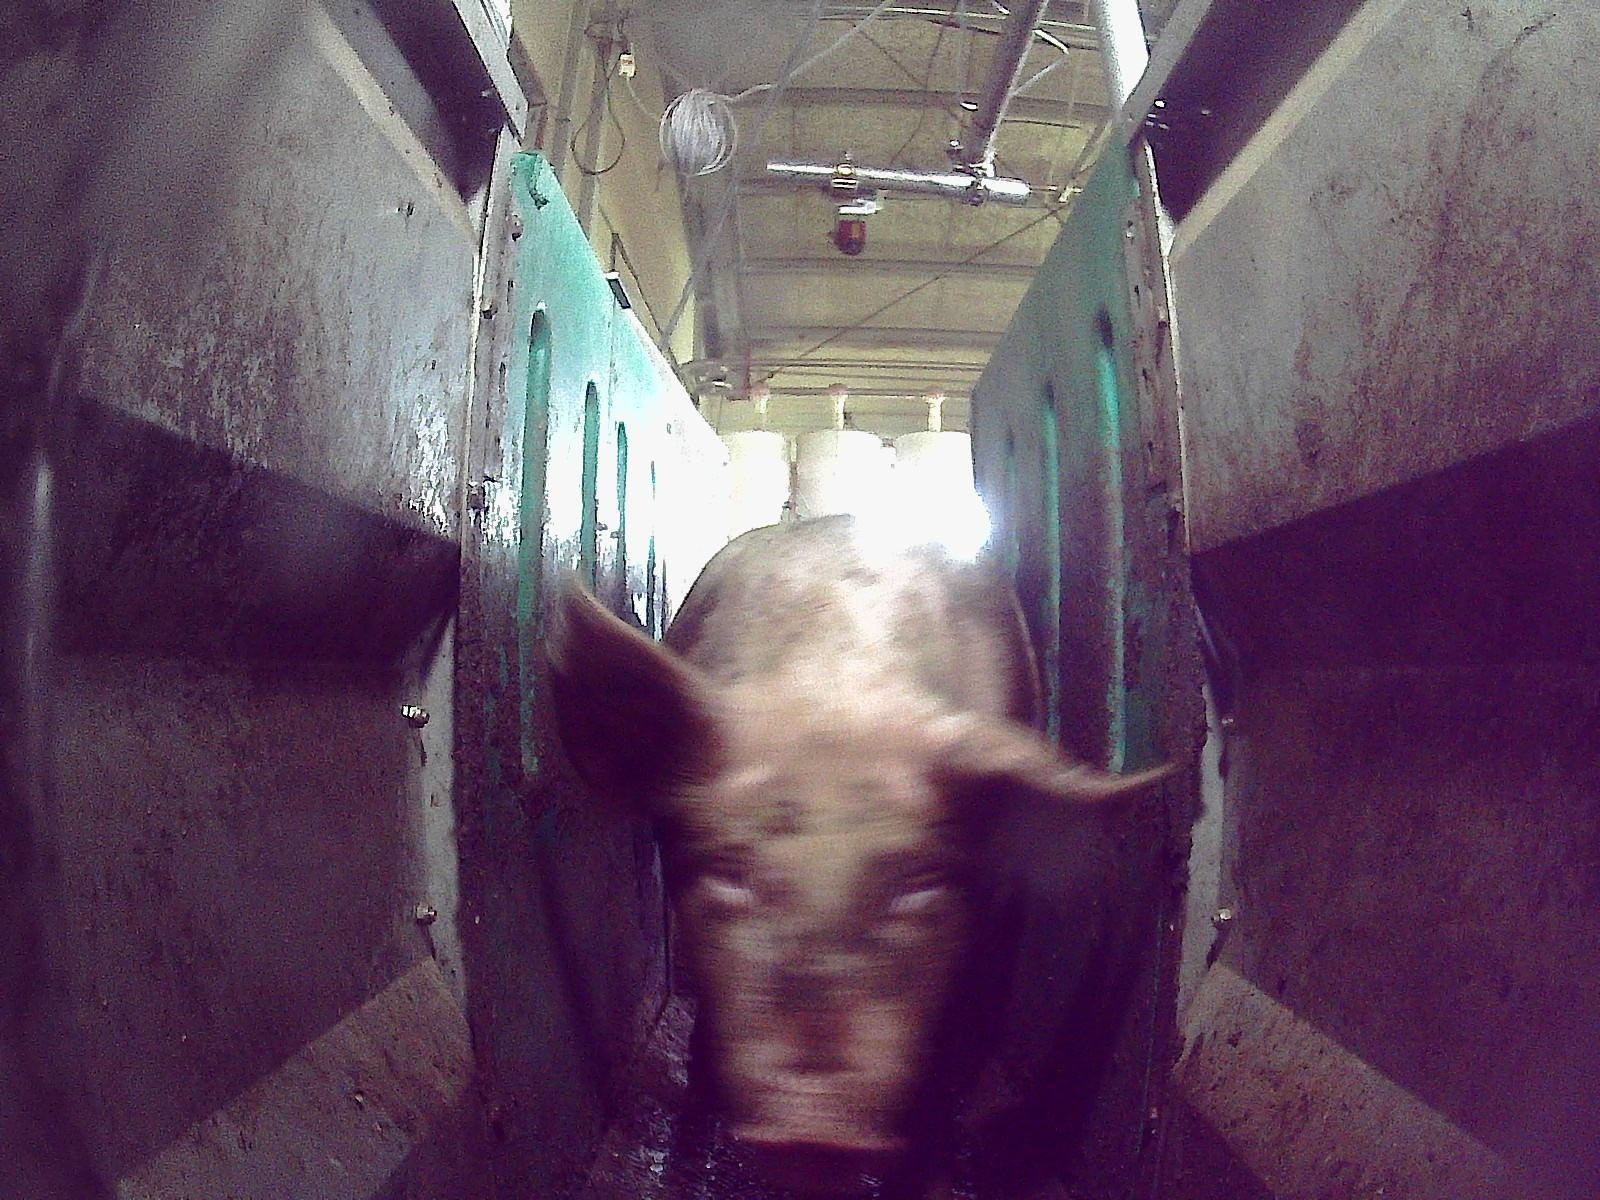Face: (662, 701, 973, 1188)
